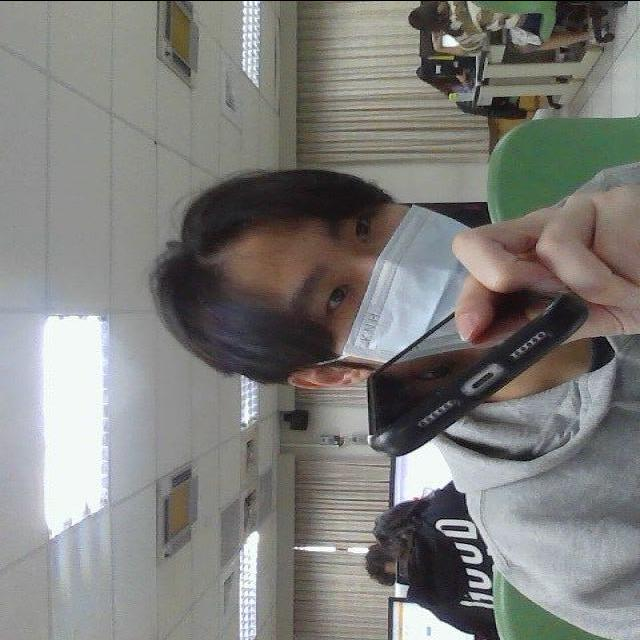ph: (322, 252, 608, 474)
